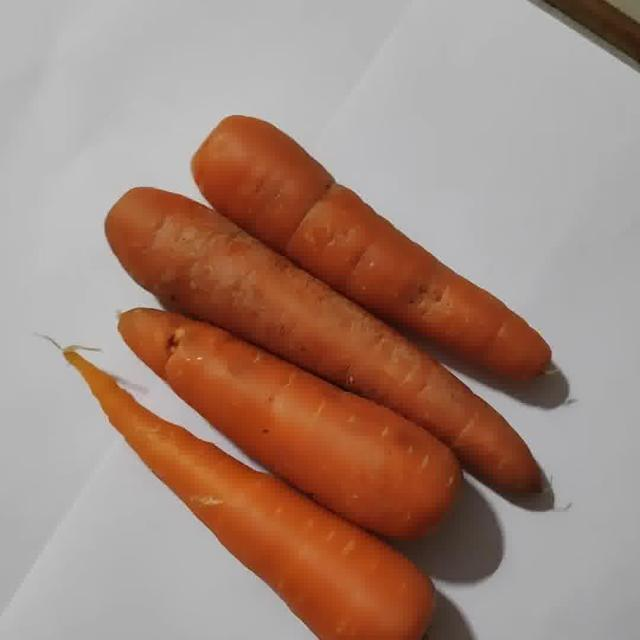Carrot: (106, 188, 539, 492), (66, 351, 431, 639), (192, 116, 553, 396), (120, 309, 458, 539)
